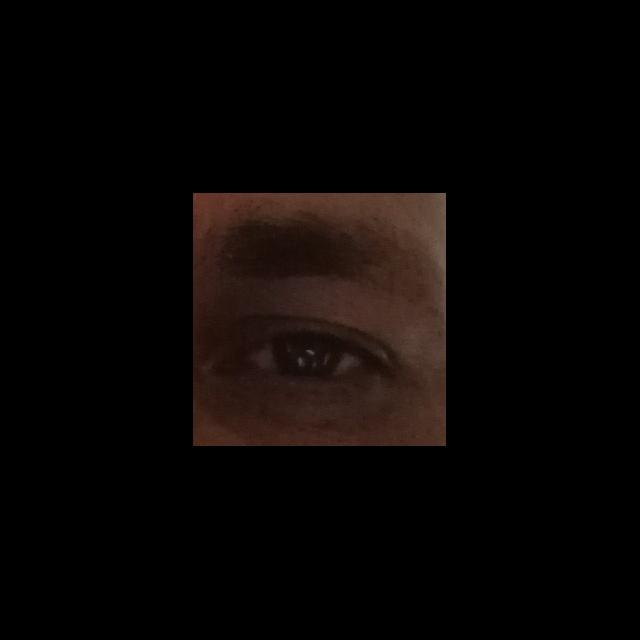eye: (250, 337, 365, 378)
iris: (273, 338, 344, 376)
